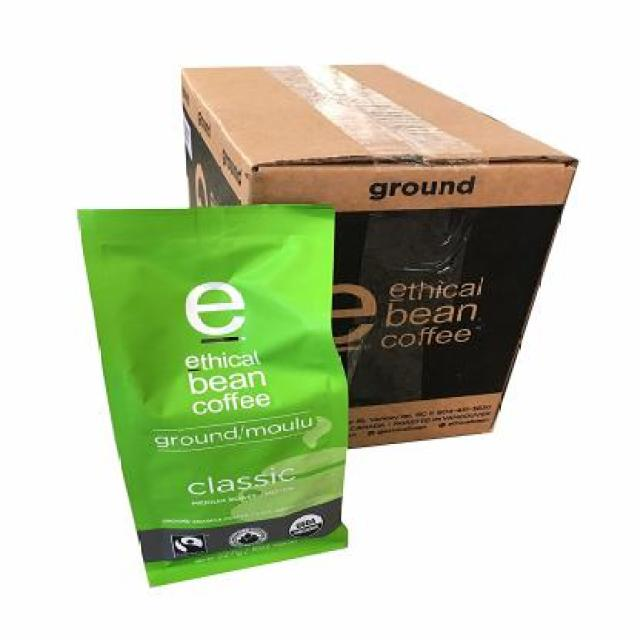box: (166, 38, 596, 468)
